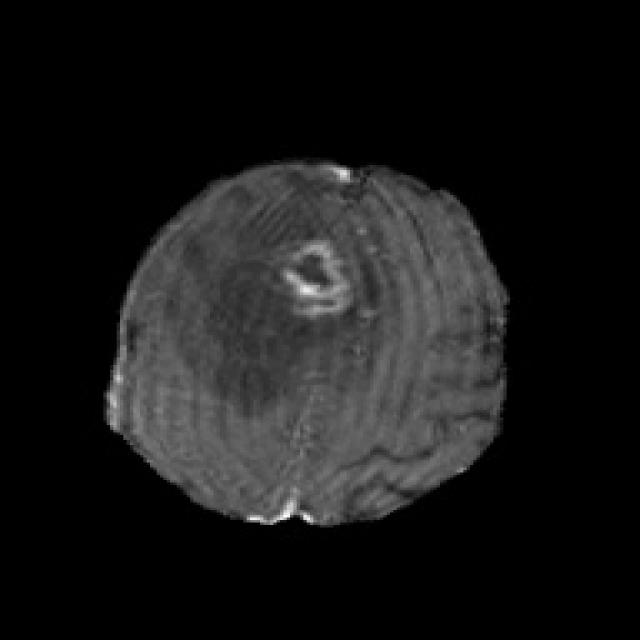positive: (284, 243, 354, 315)
